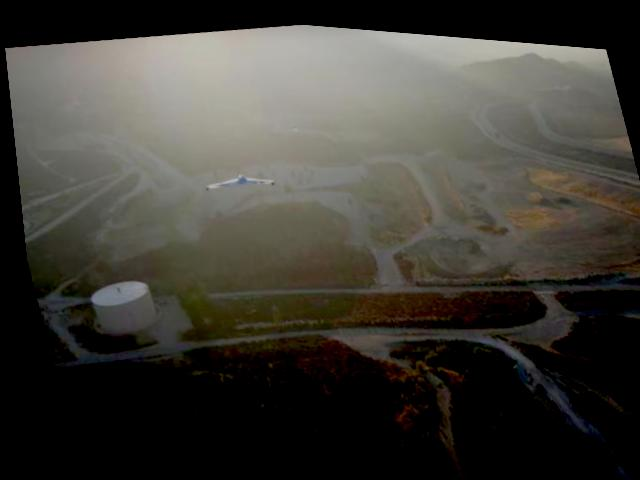iha: (196, 157, 273, 197)
